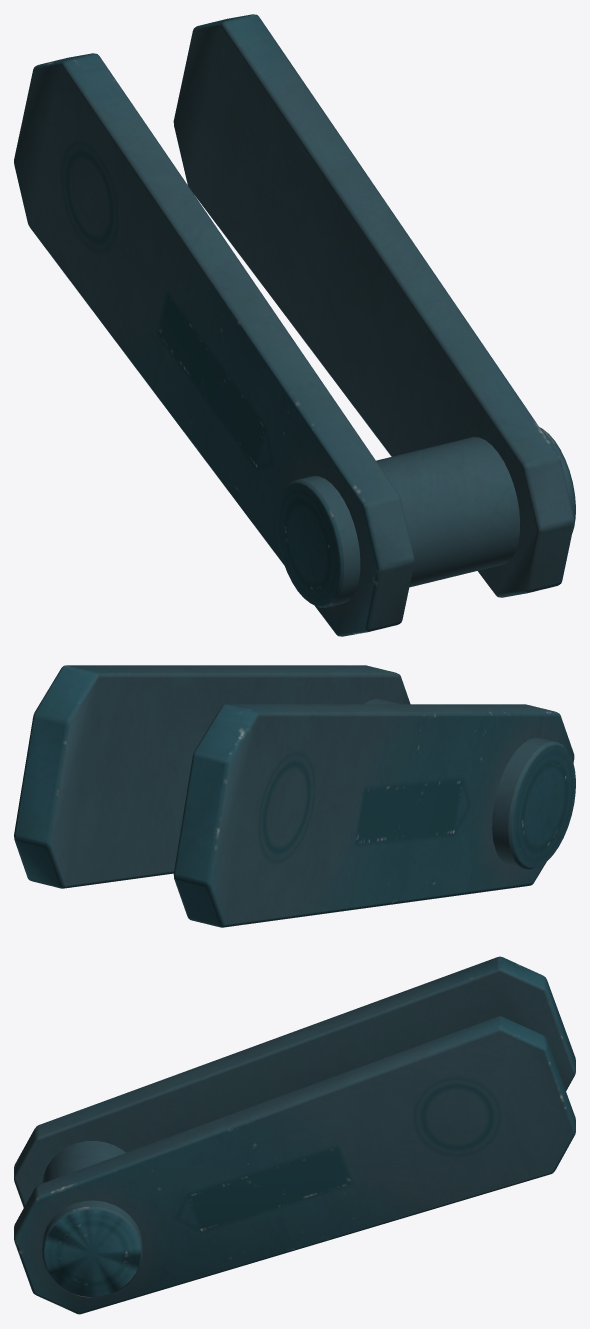
The model's file is neck_2.obj.
3 renders of one model, top to bottom at view 1: azimuth 30°, elevation 25°; view 2: azimuth 150°, elevation 25°; view 3: azimuth 270°, elevation 25°, orthographic. The views are drawn at different scales.
Visible parts, largest first — view 1: Hand_a_low.006; view 2: Hand_a_low.006; view 3: Hand_a_low.006.
Boxes of the visible parts, x1,y1,x2,y2 form: Hand_a_low.006: [14, 14, 575, 636]; Hand_a_low.006: [14, 665, 575, 927]; Hand_a_low.006: [14, 956, 575, 1314].
Size of the model in its own units: 0.4408 by 0.6646 by 1.18.
Materials: 1 (1 with a texture image).
